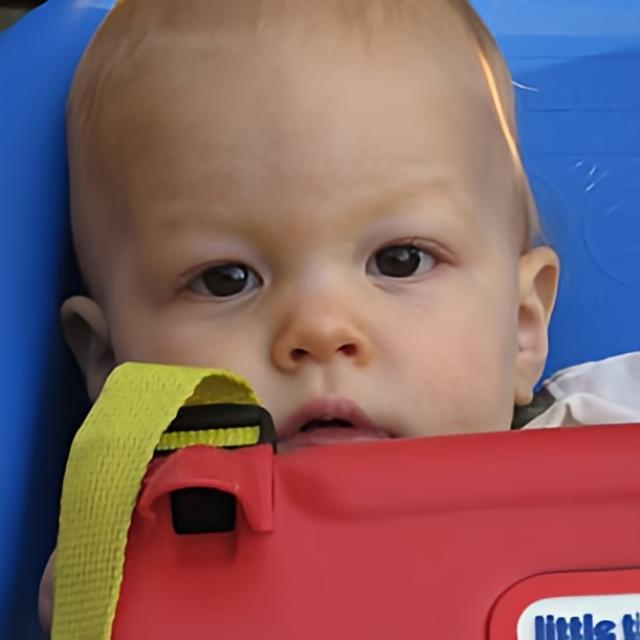surprise: (66, 0, 520, 447)
